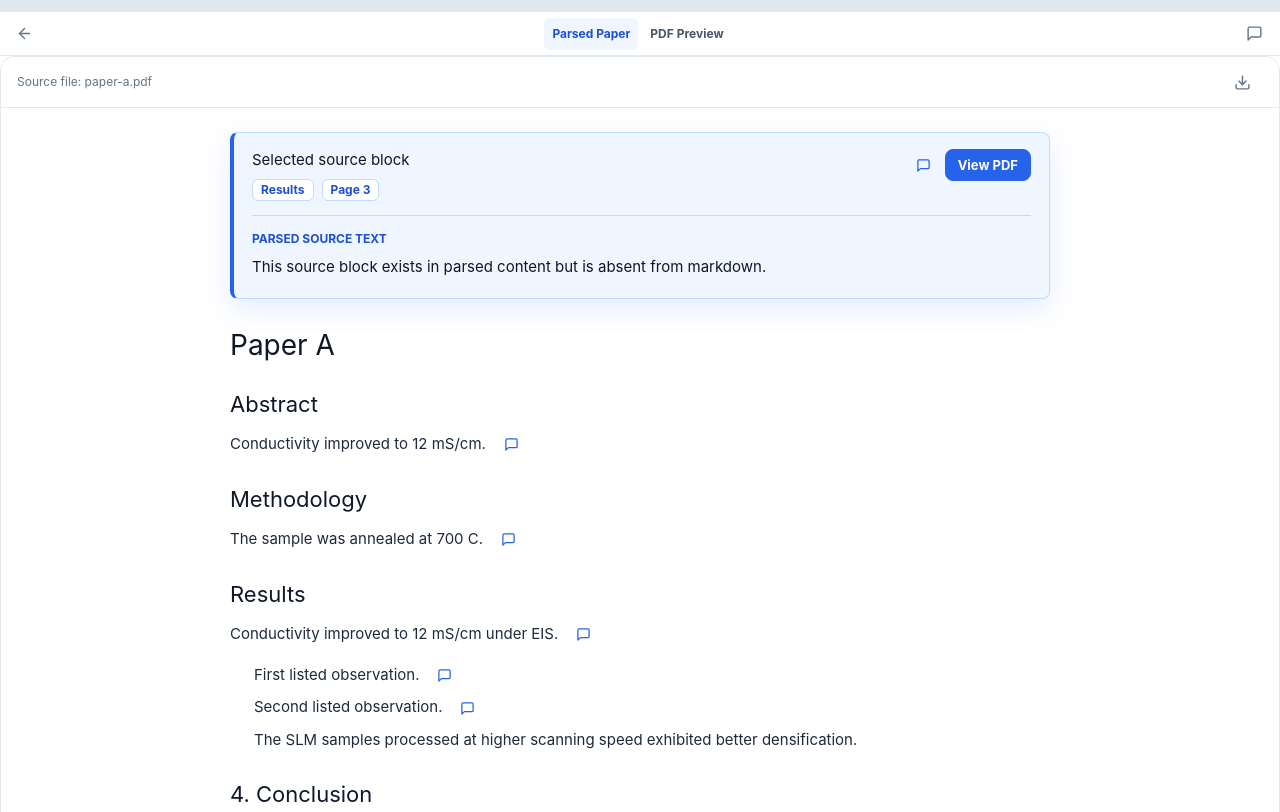
Test case: collections/[id]/documents/[document_id]/+page.svelte › shows the exact source block when source_ref is missing from markdown
Expected: the heading "Paper A" is shown, [230,328,335,362]
Expected: the element with test id "markdown-active-source-fallback" shows "This source block exists in parsed content but is absent from markdown.", [252,257,766,276]
Click the button "View PDF" at (988, 165), box [945,149,1031,181]
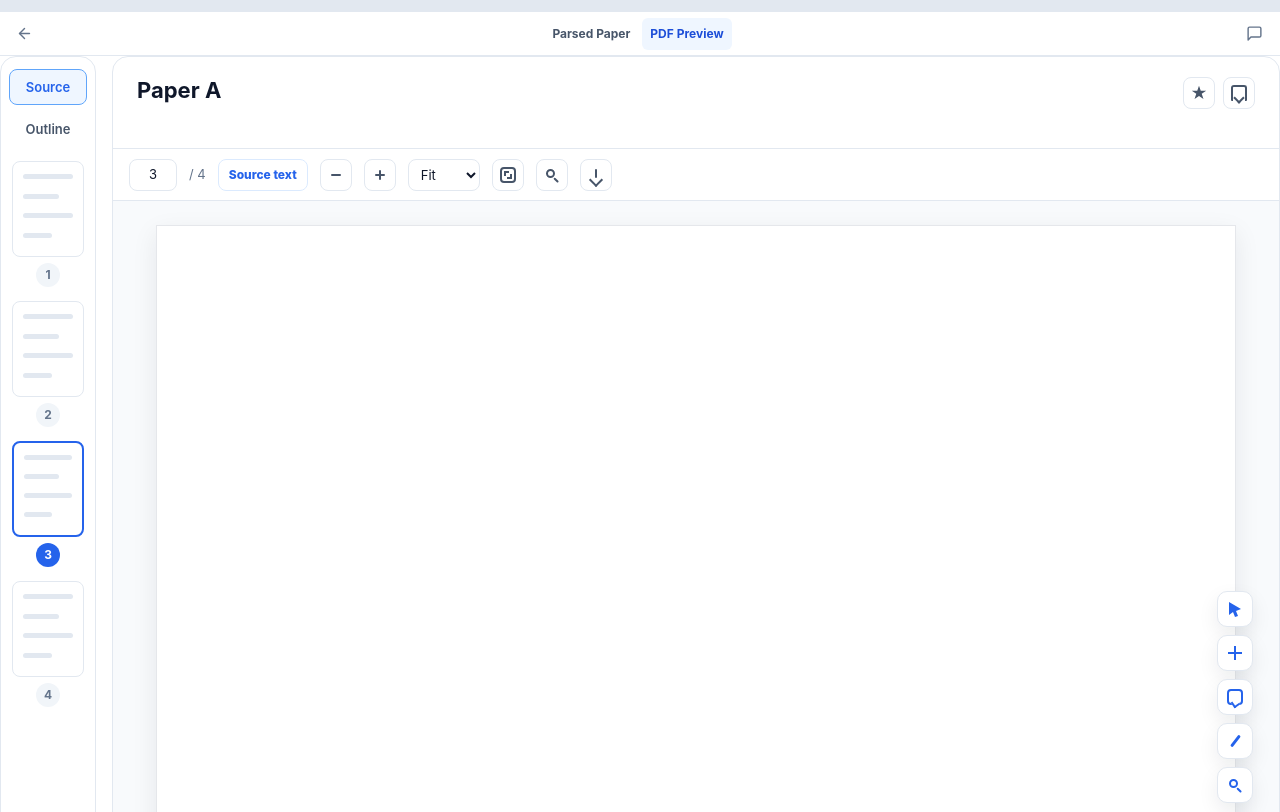
Result: the text with test id "pdf-current-page" reads "3" at [149,166,157,182]
